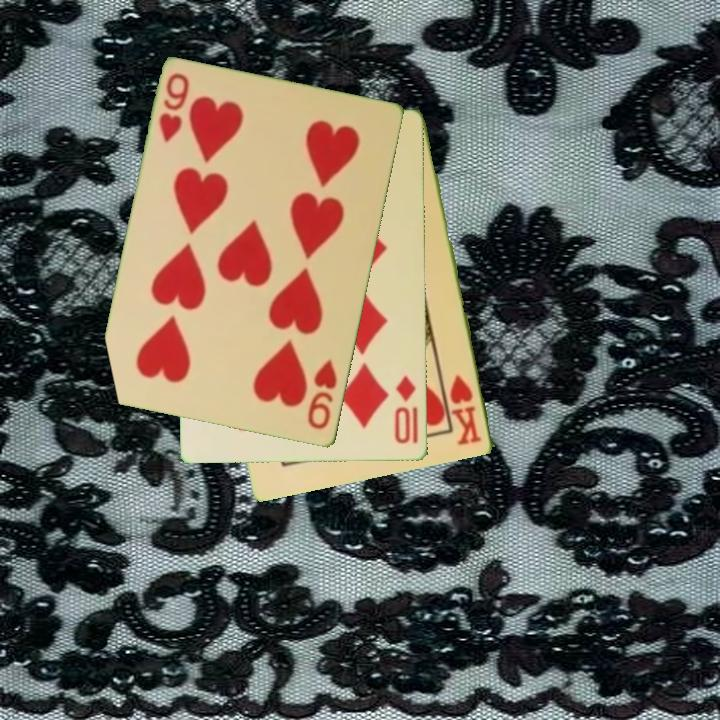10d: (391, 373, 421, 447)
9h: (155, 70, 193, 146), (304, 356, 341, 433)
Kh: (447, 371, 485, 449)
